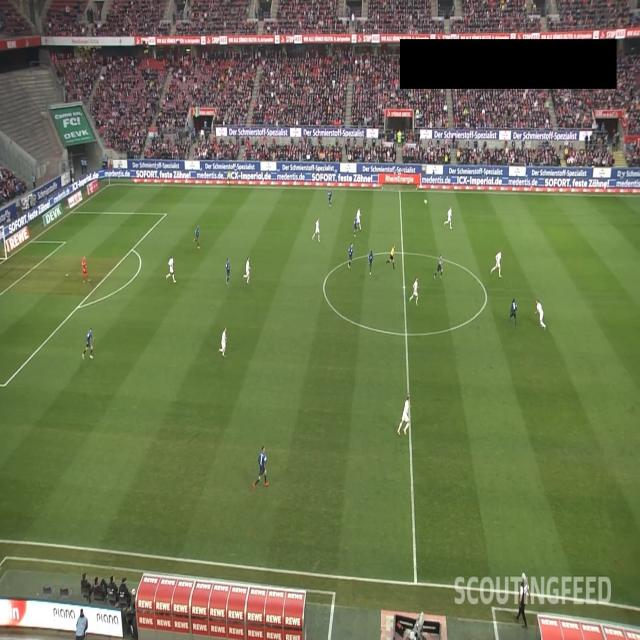ball: (424, 199, 428, 204)
